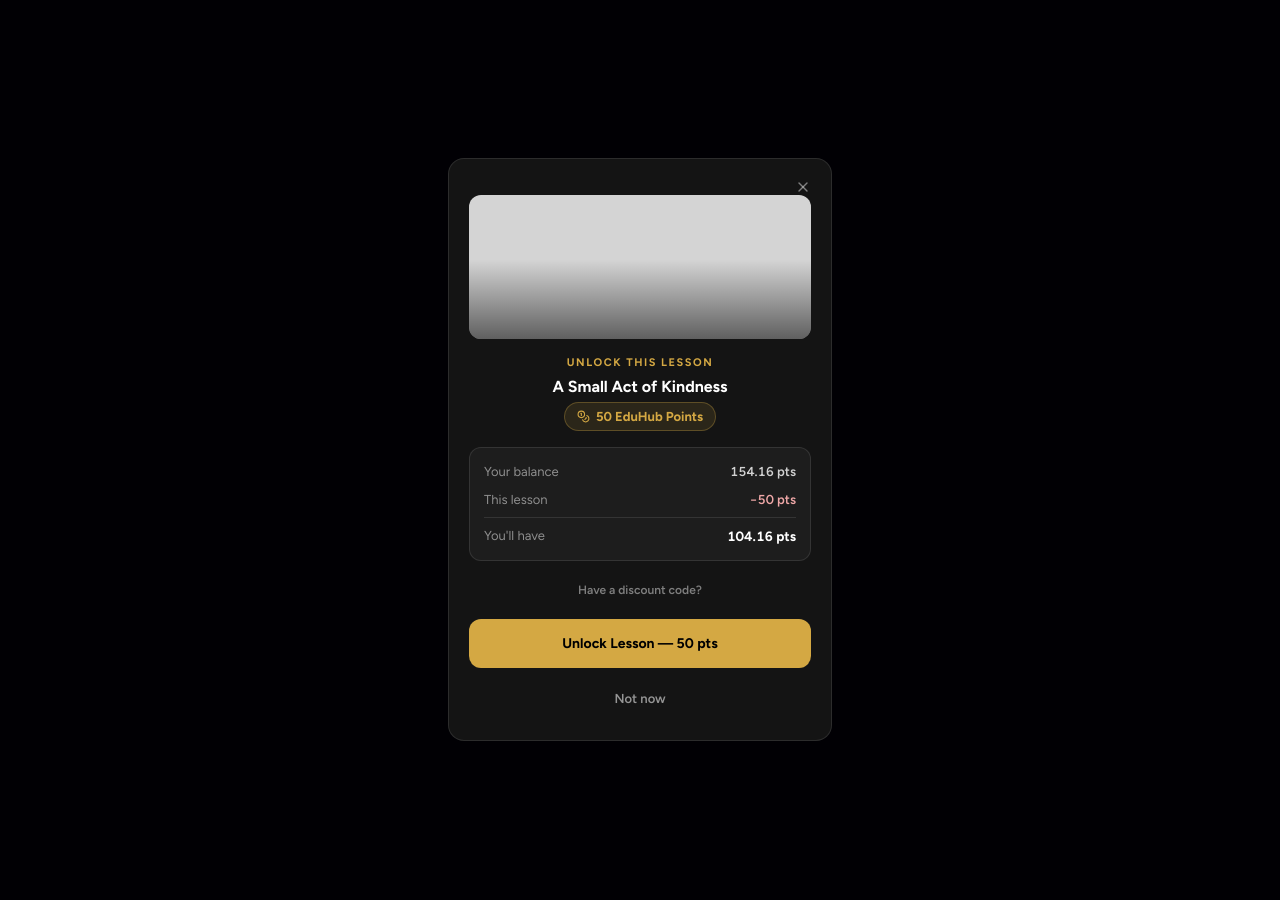
Test case: rejected purchase: honest failure with retry, lesson never unlocks
What coordinates should you click on to do the following:
click the button with test id "video-purchase-confirm-button"
I would click on:
 (640, 644)
Its box is [469, 620, 811, 669].
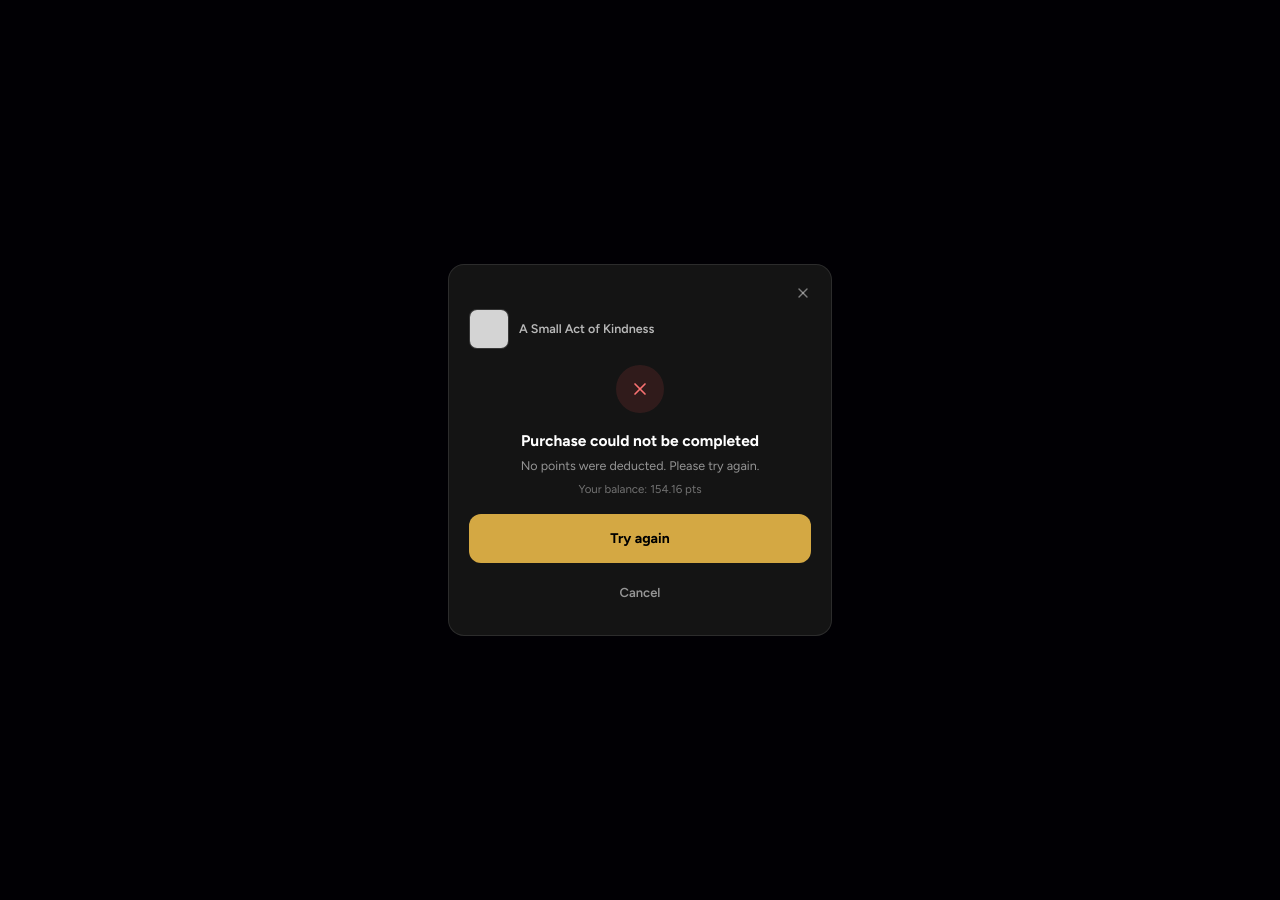
Result: the element with test id "video-purchase-error" is shown at [469, 301, 811, 615]
Result: the heading "Purchase could not be completed" is shown at [521, 431, 759, 450]
Result: the button with test id "video-purchase-retry-button" is shown at [469, 514, 811, 563]
